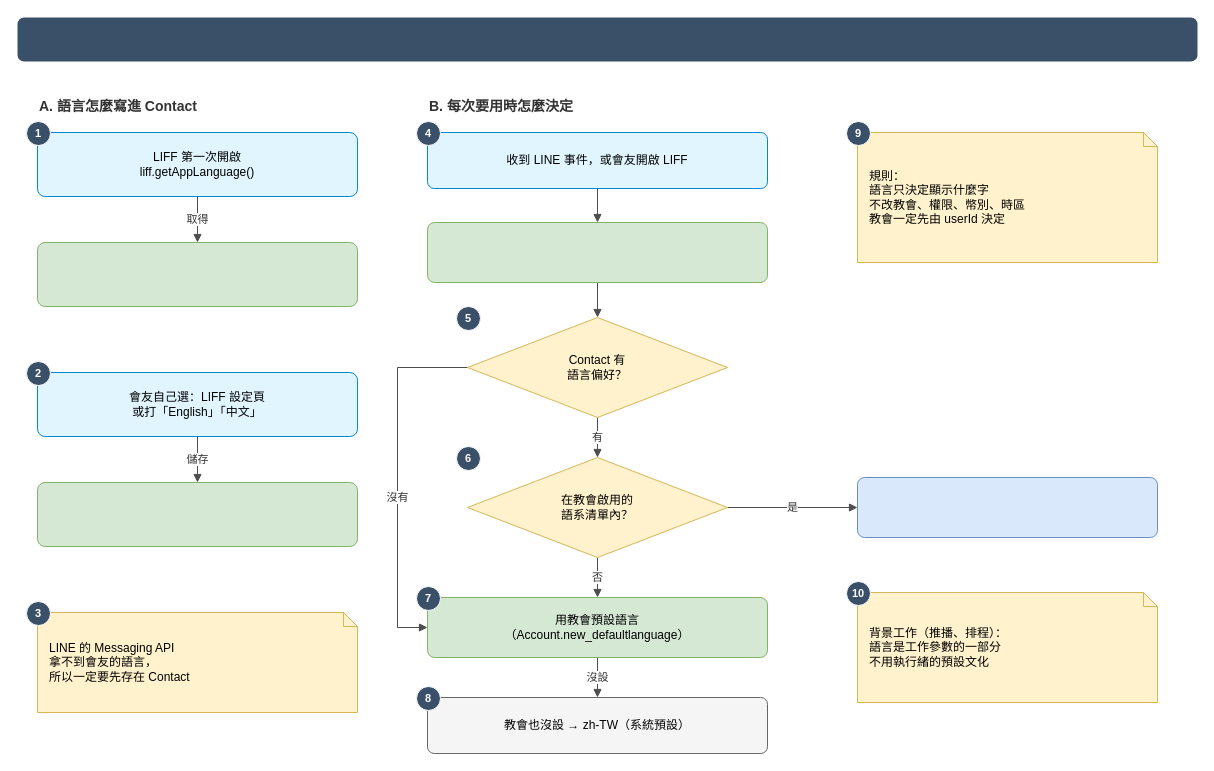
The diagram is 1214 pixels wide and 771 high, and some of its shapes have lost their labels. The shapes that lost their labels are listed below. From the top down, each one's centre as x and y in pixels, then its label:
[607,39]: 07｜會友的語言怎麼決定：寫進 Contact，每次用的時候再讀
[597,252]: userId → Contact → 所屬教會 先決定是哪間教會（不看語言）
[197,274]: Contact 還沒有偏好時才寫入 （來源＝LIFF 偵測）
[197,514]: 寫入 Contact（來源＝自選） 換成該語系的宮格
[1007,507]: ✔ 用會友自己的語言
